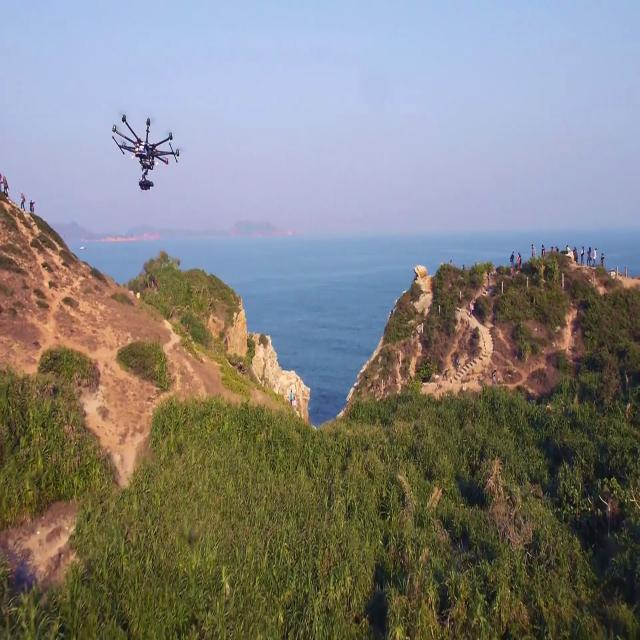drone: (103, 92, 183, 194)
